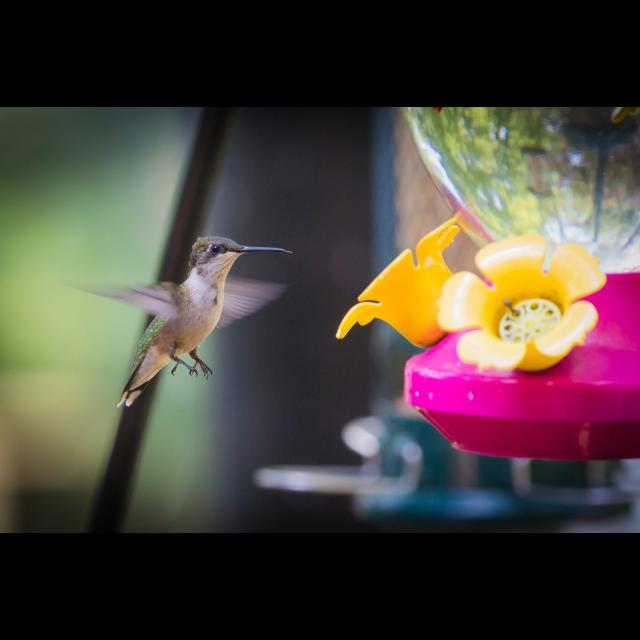Flower: (438, 232, 602, 374), (338, 208, 462, 352)
